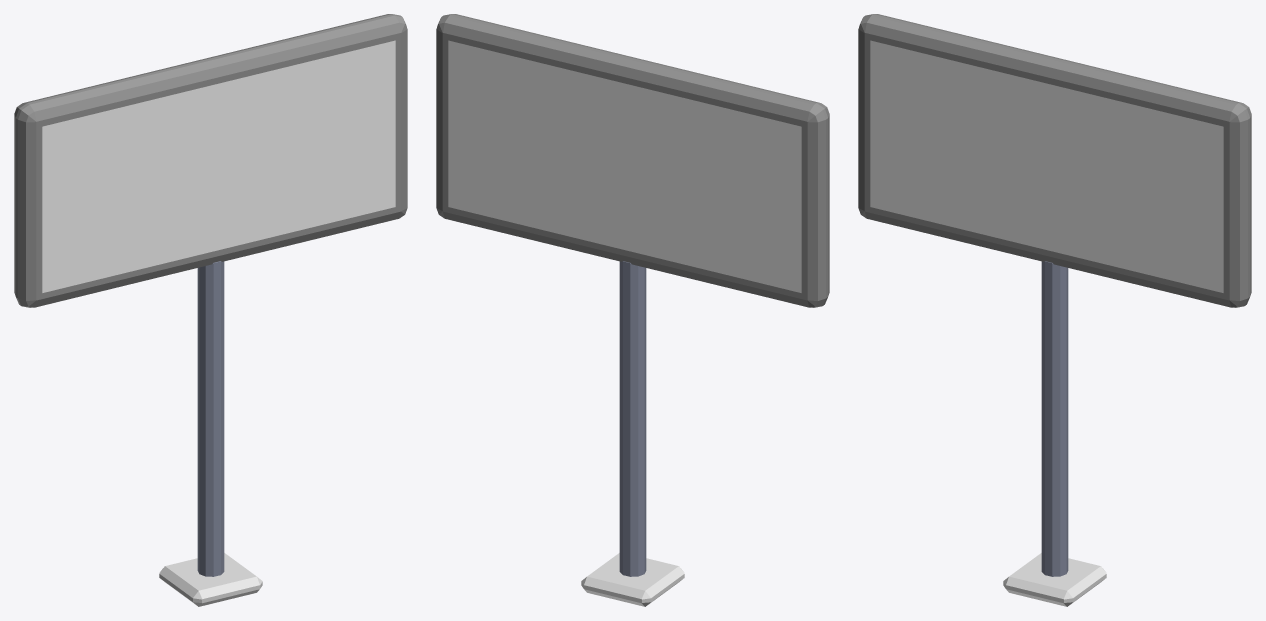
File: billboard_pole.obj
3 renders of one model, left to right at view 1: azimuth 30°, elevation 25°; view 2: azimuth 150°, elevation 25°; view 3: azimuth 330°, elevation 25°, orthographic.
Parts seen in each view (by area): view 1: panel, object 2; view 2: panel, object 2; view 3: panel, object 2.
Part boxes in pixels (x1,y1,x2,y2): panel: (42,40,395,292); object 2: (14,14,407,606); panel: (448,40,801,292); object 2: (436,14,829,606); panel: (870,40,1223,292); object 2: (858,14,1251,606).
Bounding box in the file's own units: 10 × 13 × 1.8.
